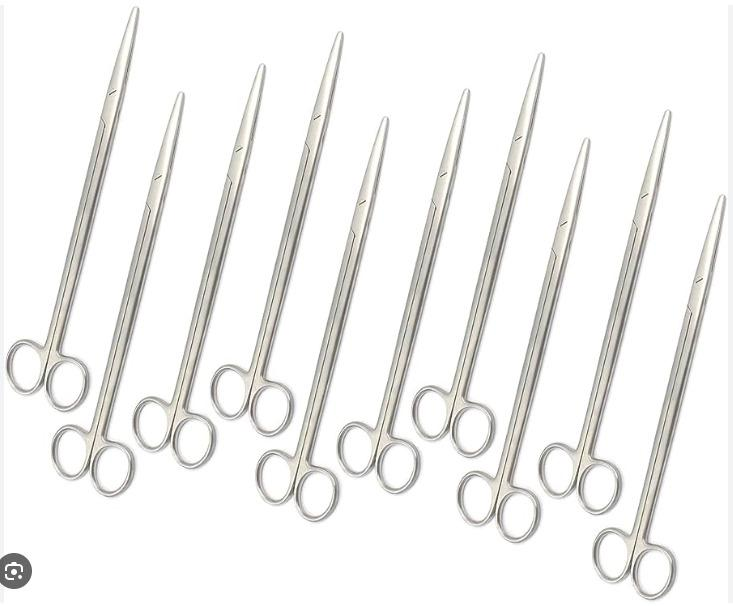Metzenbaum Sciccors: (329, 79, 500, 492), (126, 55, 291, 468), (404, 46, 567, 456), (251, 106, 409, 524), (206, 25, 365, 439), (451, 131, 610, 543), (46, 85, 207, 491), (535, 104, 682, 510), (589, 183, 732, 599), (9, 2, 97, 424)
